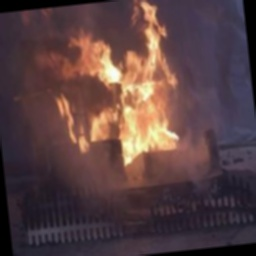fire: (49, 0, 191, 167)
